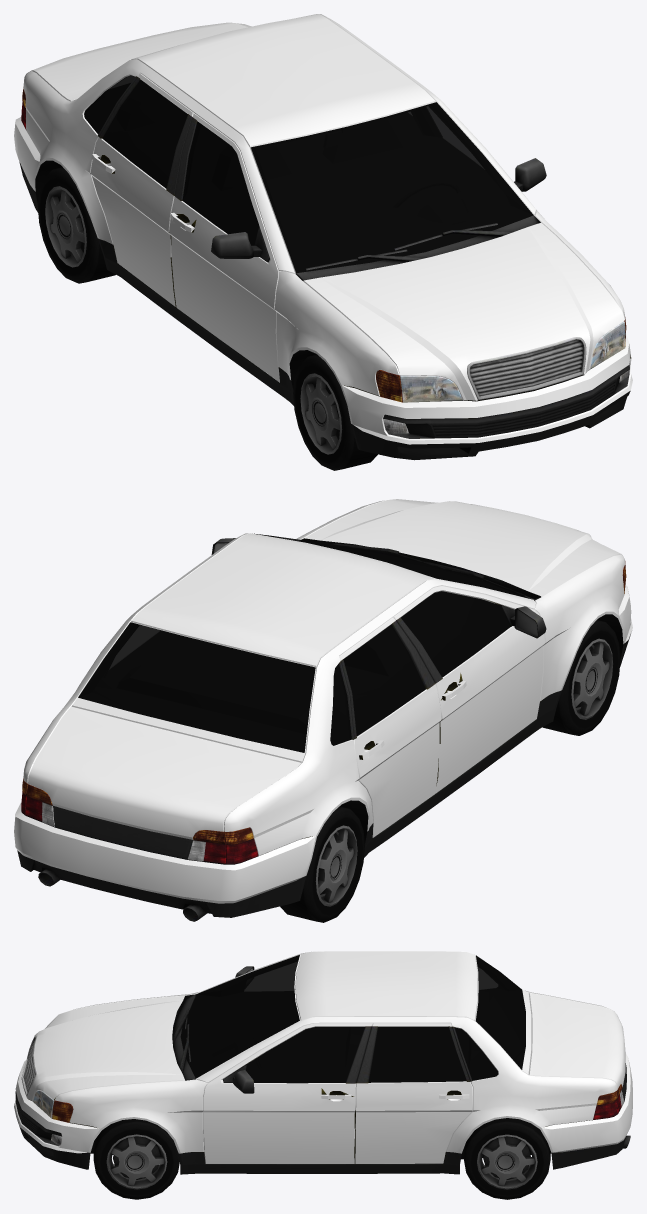
Rendered from sedan-1.glb.
The picture shows the model from 3 angles, top to bottom: view 1: azimuth 30°, elevation 25°; view 2: azimuth 150°, elevation 25°; view 3: azimuth 270°, elevation 25°; orthographic projection. The views are drawn at different scales.
Parts seen in each view (by area): view 1: body, wheel_fr, wheel_rr; view 2: body, wheel_rr, wheel_fr; view 3: body, wheel_rl, wheel_fl.
Part boxes in pixels (x1=…): body: x1=14, y1=14, x2=632, y2=460; wheel_fr: x1=293, y1=354, x2=377, y2=470; wheel_rr: x1=37, y1=167, x2=115, y2=283; body: x1=14, y1=499, x2=632, y2=921; wheel_rr: x1=280, y1=806, x2=364, y2=922; wheel_fr: x1=542, y1=620, x2=620, y2=735; body: x1=14, y1=951, x2=632, y2=1174; wheel_rl: x1=464, y1=1118, x2=550, y2=1199; wheel_fl: x1=93, y1=1119, x2=179, y2=1199.
Bounding box in the file's own units: 1.94 × 1.34 × 4.36.
5 materials, 3 textured.
